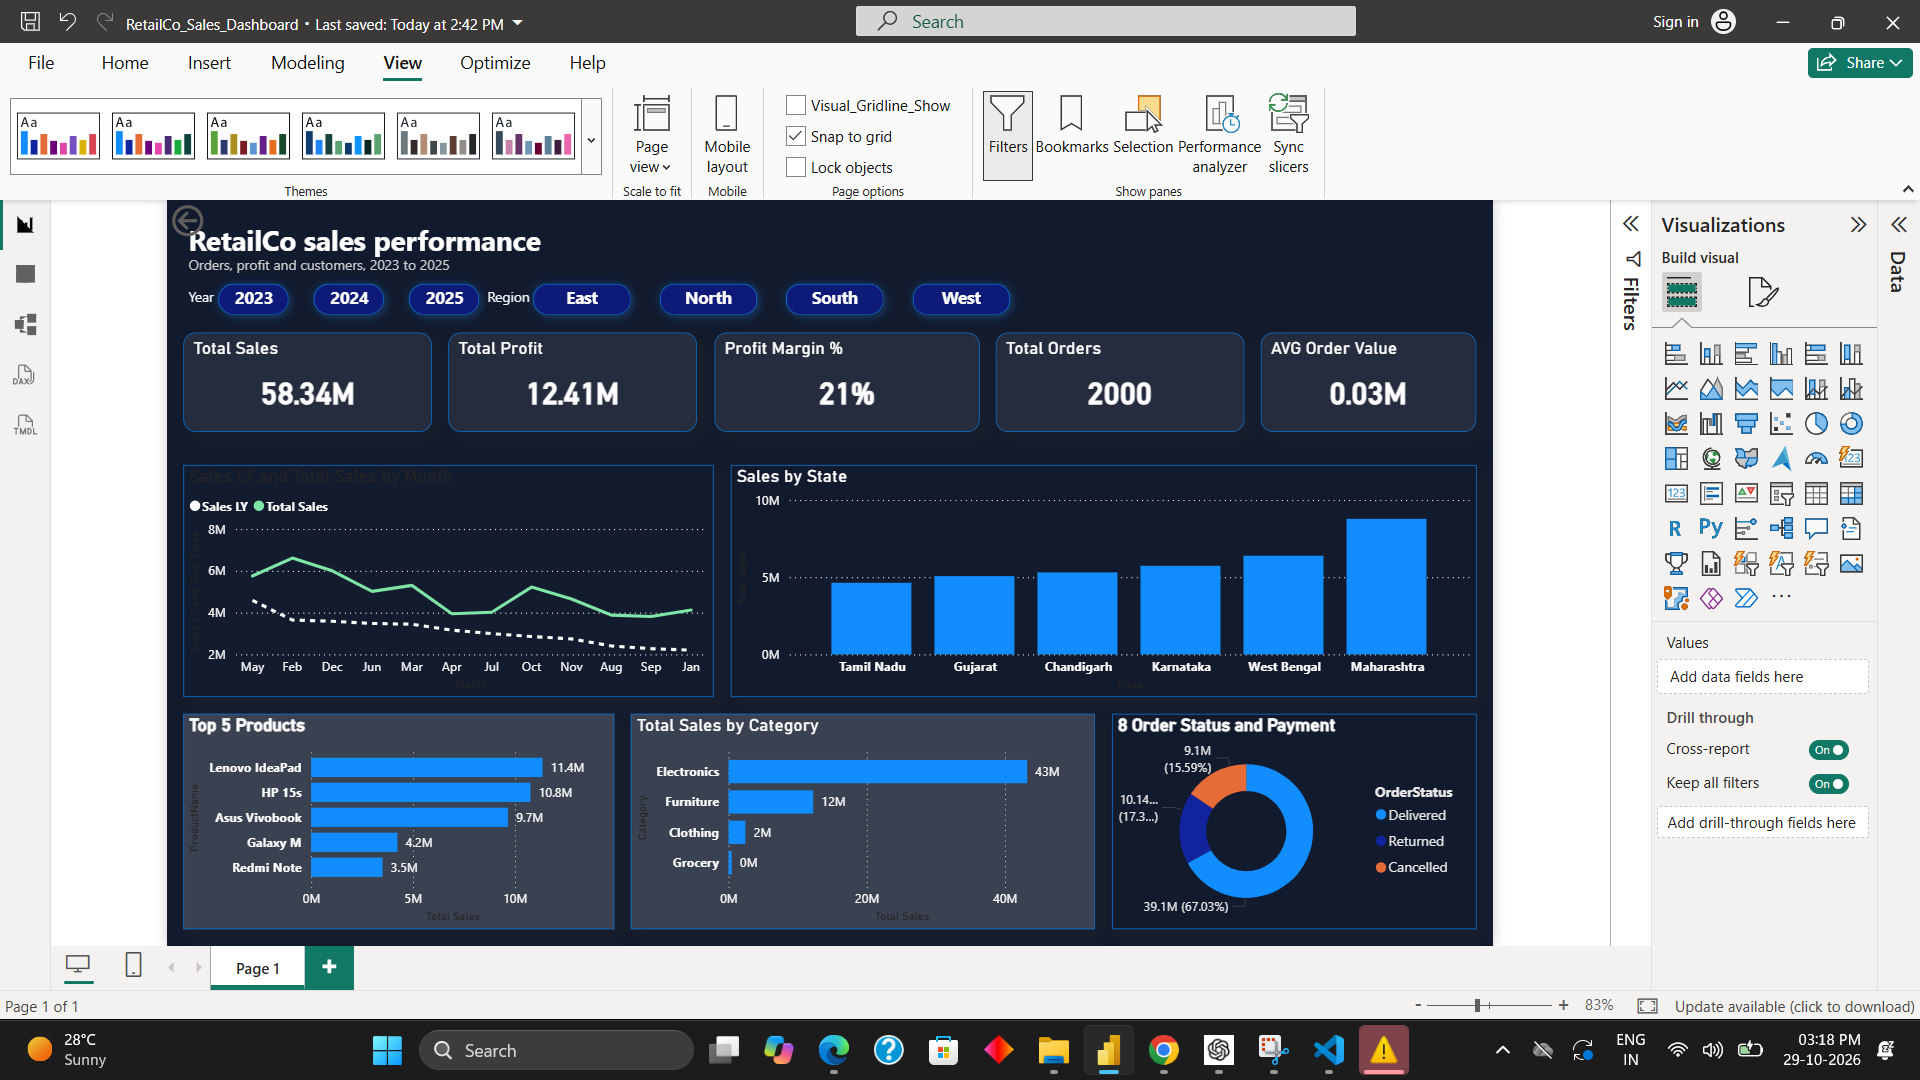

The page's visual inventory and layout, read from the dashboard file:
{"tool":"powerbi","page":{"name":"Page 1","canvas":[1280,720],"ordinal":0},"visuals":[{"type":"textbox","box":[16,16,512,56],"z":0},{"type":"textbox","box":[16,48,264,32],"z":1000},{"type":"advancedSlicerVisual","fields":{"Values":["DIM-DATE.Year"]},"box":[32,64,288,64],"z":2000},{"type":"textbox","box":[16,80,40,32],"z":3000},{"type":"card","title":"Total Sales","fields":{"Values":["Sales_fact.Total Sales"]},"box":[16,128,240,96],"z":4000},{"type":"actionButton","box":[0,0,100,40],"z":5000},{"type":"card","title":"Total Profit","fields":{"Values":["Sales_fact.Total Profit"]},"box":[272,128,240,96],"z":6000},{"type":"card","title":"Profit Margin %","fields":{"Values":["Sales_fact.Profit Margin %"]},"box":[528,128,256,96],"z":7000},{"type":"card","title":"Total Orders","fields":{"Values":["Sales_fact.Total Orders"]},"box":[800,128,240,96],"z":8000},{"type":"card","title":"AVG Order Value","fields":{"Values":["Sales_fact.Avg Order Value"]},"box":[1056,128,208,96],"z":9000},{"type":"lineChart","fields":{"Category":["DIM-DATE.Month"],"Y":["Sales_fact.Sales LY","Sales_fact.Total Sales"]},"box":[16,256,512,224],"z":10000},{"type":"clusteredColumnChart","title":"Sales by State","fields":{"Category":["Customers_dim.State"],"Y":["Sales_fact.Total Sales"]},"box":[544,256,720,224],"z":11000},{"type":"barChart","title":"Top 5 Products","fields":{"Y":["Sales_fact.Total Sales"],"Category":["Products.ProductName"]},"box":[16,496,416,208],"z":12000},{"type":"barChart","fields":{"Y":["Sales_fact.Total Sales"],"Category":["Products.Category Hierarchy.Category","Products.Category Hierarchy.SubCategory"]},"box":[448,496,448,208],"z":13000},{"type":"donutChart","title":"8 Order Status and Payment","fields":{"Category":["Sales_fact.OrderStatus"],"Y":["Sales_fact.Total Sales"]},"box":[912,496,352,208],"z":14000},{"type":"advancedSlicerVisual","fields":{"Values":["Customers_dim.Region"]},"box":[336,64,496,64],"z":15000},{"type":"textbox","box":[304,80,64,32],"z":16000}]}

Visuals, with their boxes on the page's 1280x720 design canvas (x1, y1, x2, y2). These are canvas units, not pixel positions in the 1920x1080 screenshot, which may show the page scaled, cropped or inside an application window:
textbox: {"left": 16, "top": 16, "right": 528, "bottom": 72}
textbox: {"left": 16, "top": 48, "right": 280, "bottom": 80}
advancedSlicerVisual - DIM-DATE.Year: {"left": 32, "top": 64, "right": 320, "bottom": 128}
textbox: {"left": 16, "top": 80, "right": 56, "bottom": 112}
"Total Sales" card: {"left": 16, "top": 128, "right": 256, "bottom": 224}
actionButton: {"left": 0, "top": 0, "right": 100, "bottom": 40}
"Total Profit" card: {"left": 272, "top": 128, "right": 512, "bottom": 224}
"Profit Margin %" card: {"left": 528, "top": 128, "right": 784, "bottom": 224}
"Total Orders" card: {"left": 800, "top": 128, "right": 1040, "bottom": 224}
"AVG Order Value" card: {"left": 1056, "top": 128, "right": 1264, "bottom": 224}
lineChart - DIM-DATE.Month x Sales_fact.Sales LY: {"left": 16, "top": 256, "right": 528, "bottom": 480}
"Sales by State" clusteredColumnChart: {"left": 544, "top": 256, "right": 1264, "bottom": 480}
"Top 5 Products" barChart: {"left": 16, "top": 496, "right": 432, "bottom": 704}
barChart - Sales_fact.Total Sales x Products.Category Hierarchy.Category: {"left": 448, "top": 496, "right": 896, "bottom": 704}
"8 Order Status and Payment" donutChart: {"left": 912, "top": 496, "right": 1264, "bottom": 704}
advancedSlicerVisual - Customers_dim.Region: {"left": 336, "top": 64, "right": 832, "bottom": 128}
textbox: {"left": 304, "top": 80, "right": 368, "bottom": 112}
